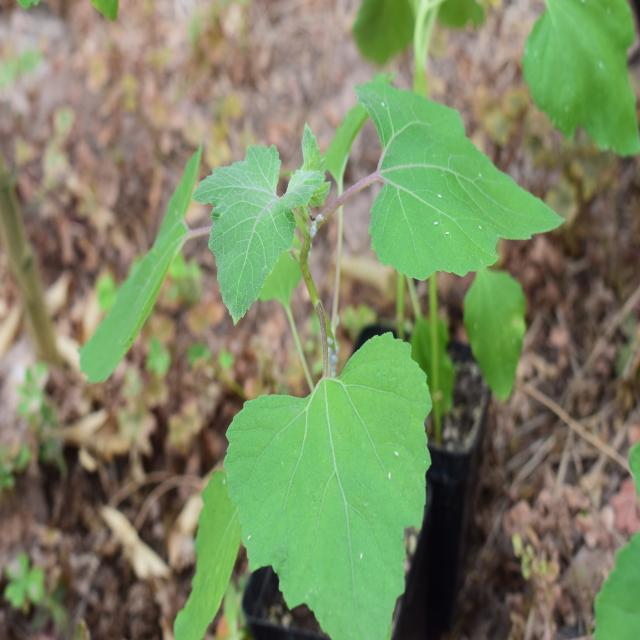cocklebur: (111, 82, 520, 584)
